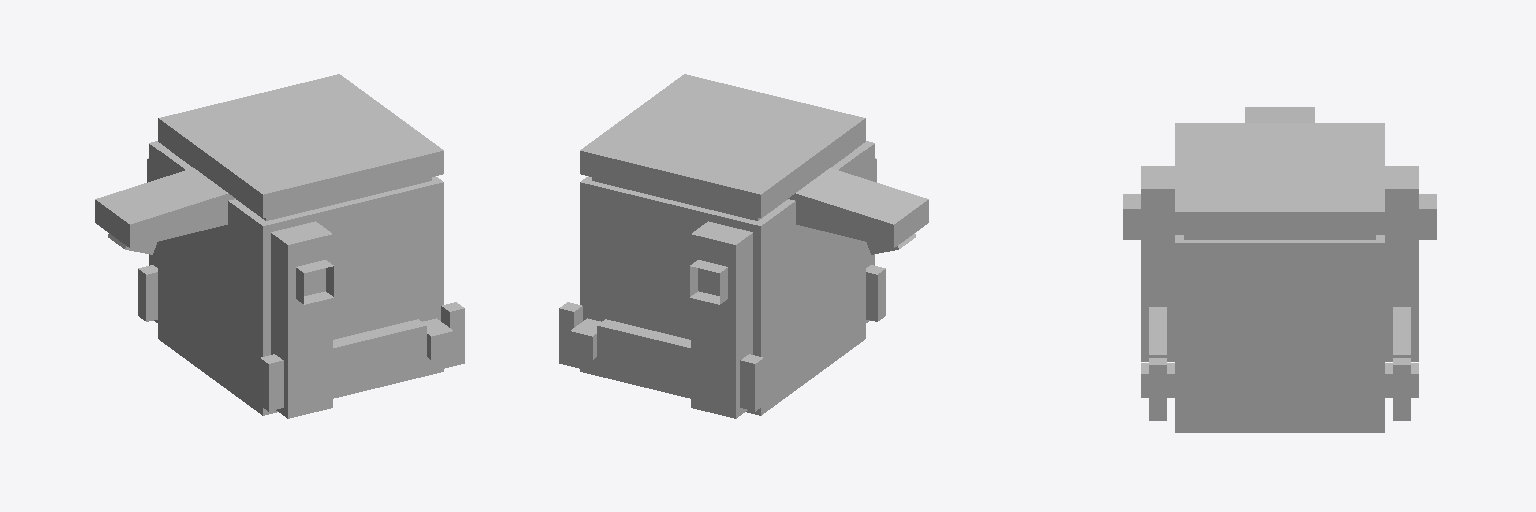
File: cating_machine_1.obj
3 views of the same model, side by side, from view 1: azimuth 30°, elevation 25°; view 2: azimuth 150°, elevation 25°; view 3: azimuth 270°, elevation 25° (orthographic).
Visible parts, largest first — view 1: cube.038; view 2: cube.038; view 3: cube.038.
Boxes of the visible parts, x1,y1,x2,y2 form: cube.038: [95, 74, 464, 418]; cube.038: [559, 74, 928, 418]; cube.038: [1123, 107, 1436, 432].
Size of the model in its own units: 2.38 by 1.75 by 2.25.